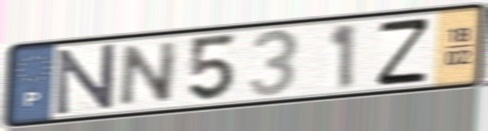1: (326, 21, 358, 93)
3: (247, 27, 305, 99)
5: (188, 30, 240, 104)
N: (54, 41, 117, 118), (115, 38, 182, 110)
Z: (374, 15, 432, 89)
